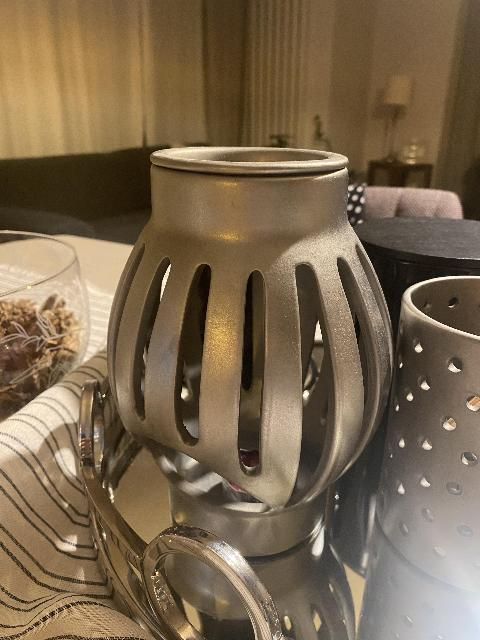Metal: (87, 383, 480, 640), (141, 133, 378, 546), (398, 265, 480, 594)
